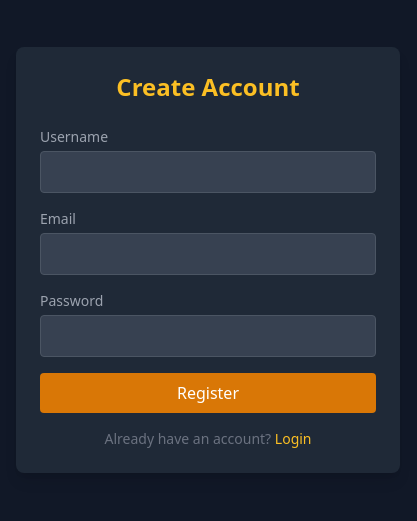
Test: RegisterPage › shows error message on registration failure
Type "taken" into the field labelled "Username" at (208, 172), box [40,151,376,193]
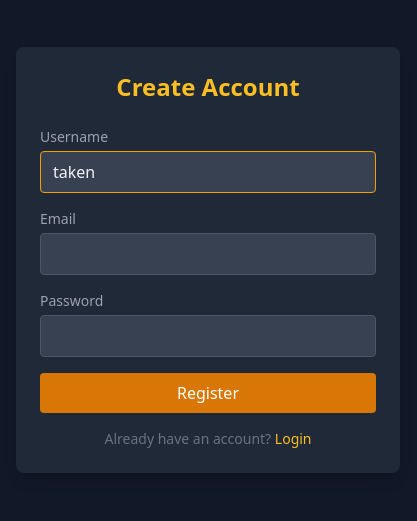
Type "taken@test.com" into the field labelled "Email" at (208, 254), box [40,233,376,275]
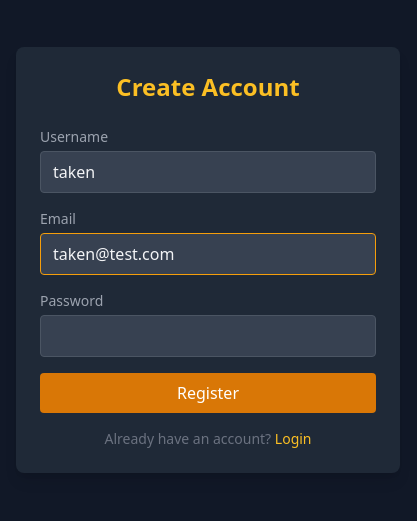
Type "password123" into the password field labelled "Password" at (208, 336), box [40,315,376,357]
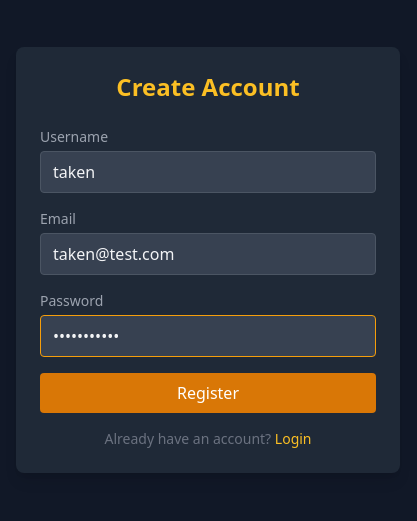
Click the button "Register" at (208, 393), box [40,373,376,413]
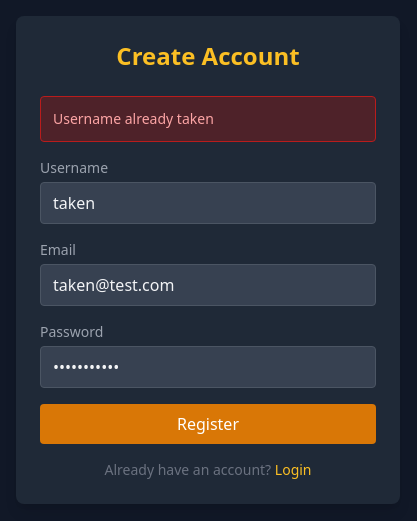
Now the text "Username already taken" is shown, box [40,96,376,142]
